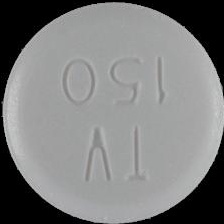51079-161: (0, 0, 224, 224)
